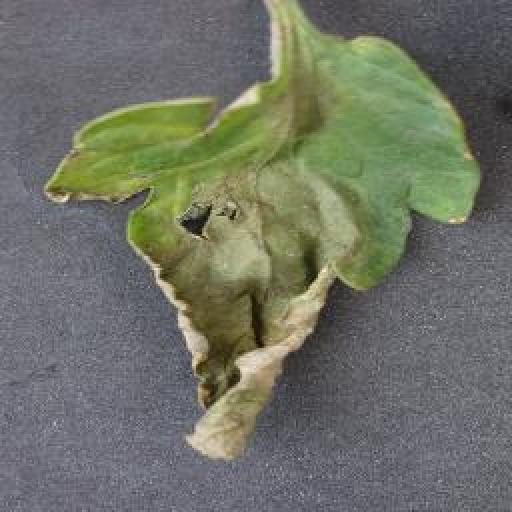disease_tomato: (46, 33, 482, 460)
